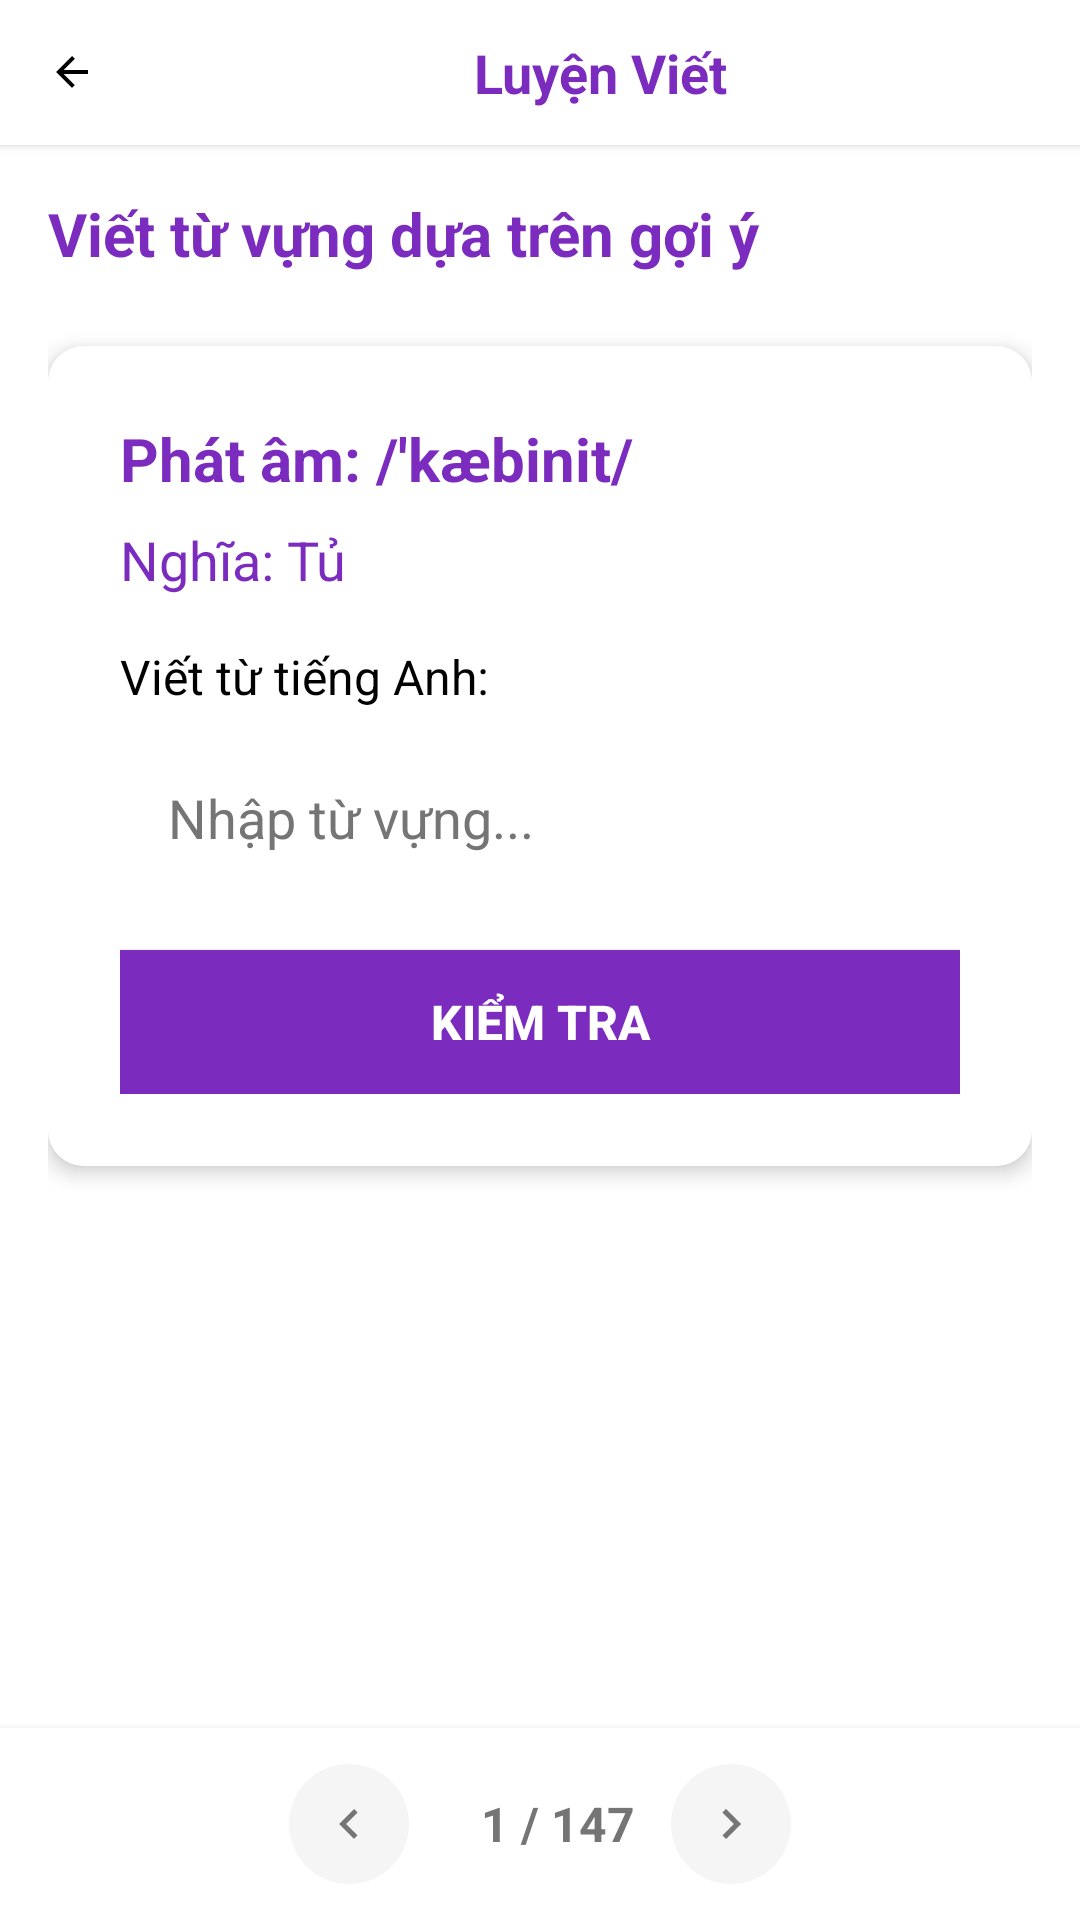

Icon click points for this 1080 × 1920 phone screenshot, format point (x, y):
arrow back: point (72, 72)
arrow left: point (349, 1824)
arrow right: point (731, 1824)
